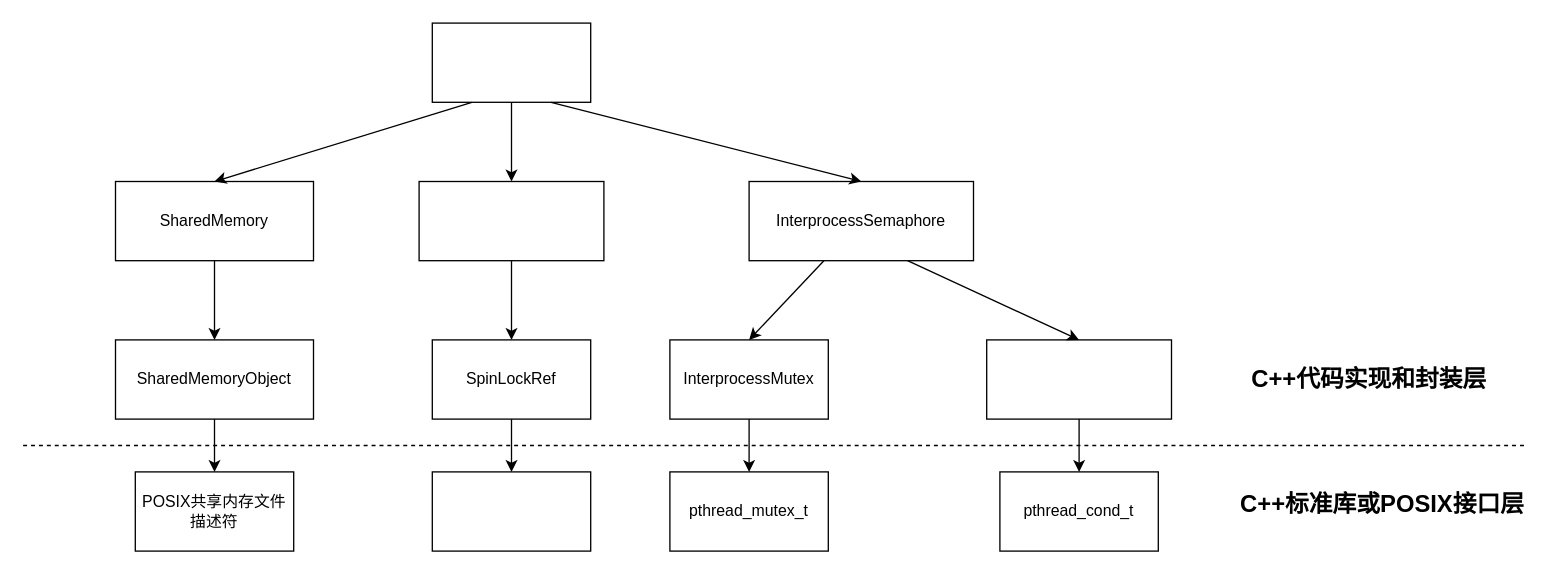
The diagram is 1564 pixels wide and 574 high, and some of its shapes have lost their labels. Here are the shapes that lost their labels. From the top down, the centre of each, then its label:
At point 511,62: "NamedSemaphore".
At point 511,220: "InterprocessOnceFlag".
At point 1078,379: "InterprocessCondition".
At point 511,511: "std::atomic_bool".
